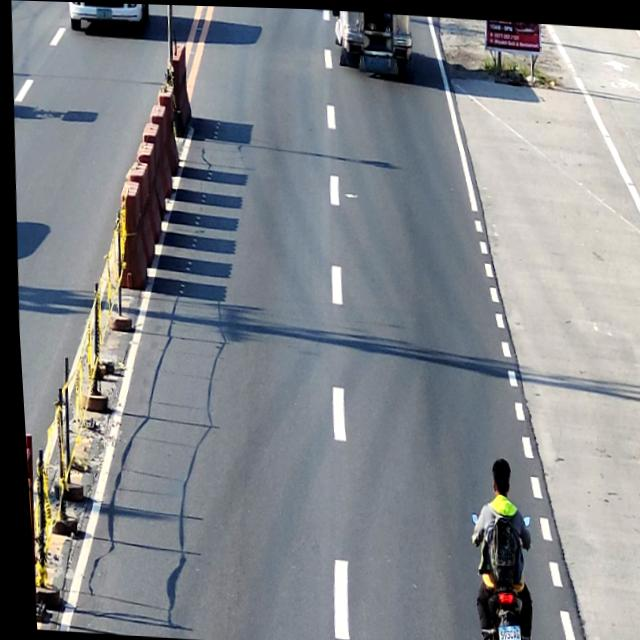Car: (67, 2, 150, 34)
Jeep: (330, 8, 413, 76)
License-Plate: (489, 620, 513, 640), (95, 6, 112, 19)
Motorcycle: (459, 504, 532, 640)
